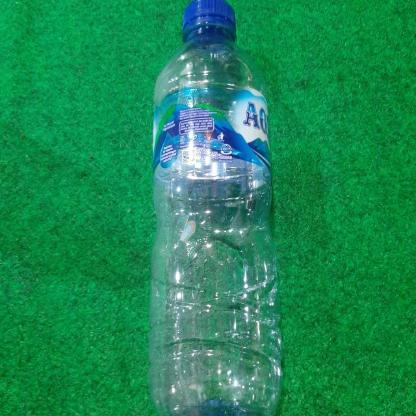Plastic Bottle: (150, 0, 284, 416)
